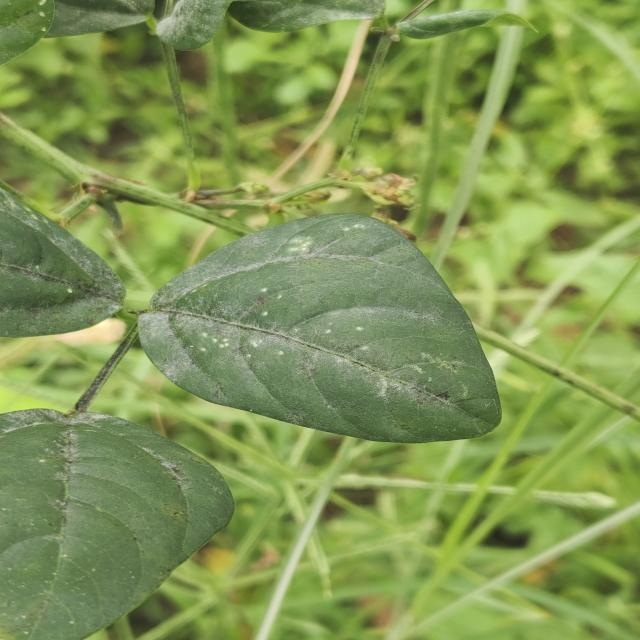sitaw-aphid-high: (139, 215, 501, 443), (0, 409, 234, 640), (0, 182, 125, 344)
